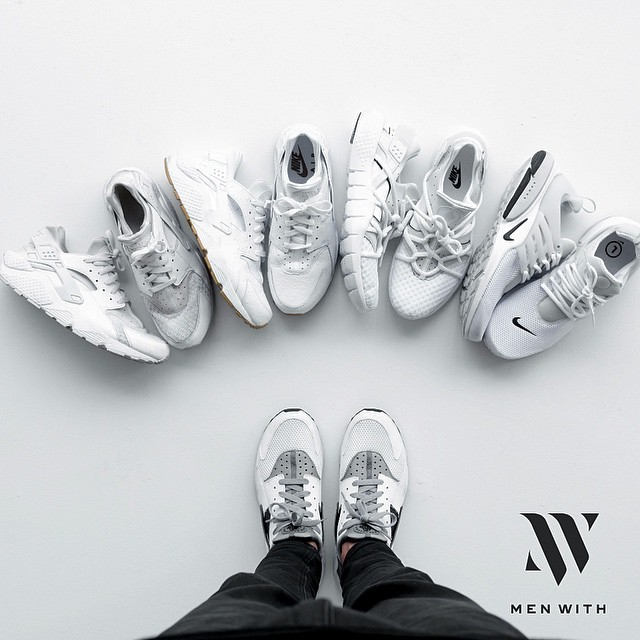sneaker: (238, 390, 333, 574), (331, 391, 416, 571)
